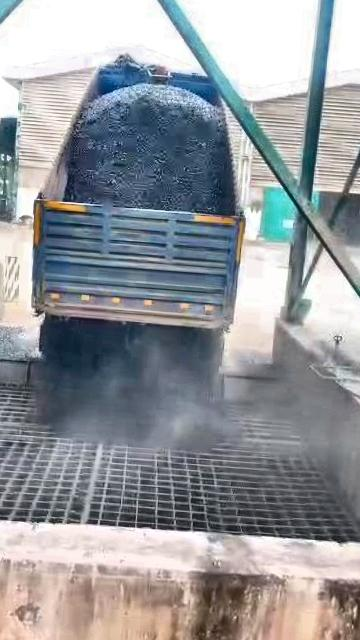gravel: (64, 84, 234, 212), (39, 317, 222, 433), (0, 324, 37, 358)
